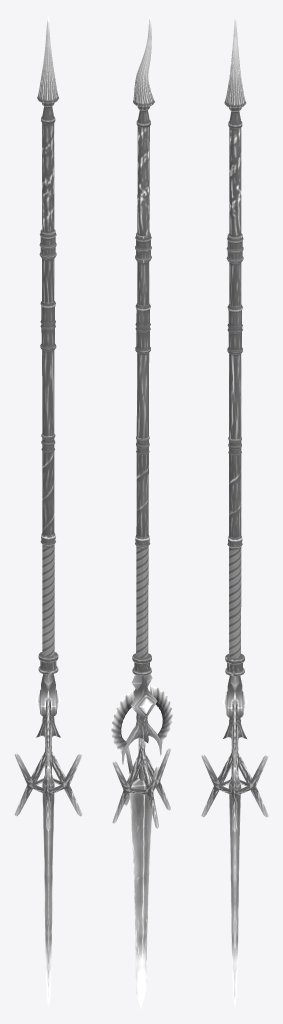
Rendered from le_pd_crystalspear.glb.
3 renders of one model, left to right at view 1: azimuth 90°, elevation 25°; view 2: azimuth 210°, elevation 25°; view 3: azimuth 270°, elevation 25°, orthographic.
Parts seen in each view (by area): view 1: CrystalSpear; view 2: CrystalSpear; view 3: CrystalSpear.
Boxes of the visible parts, x1=… form: CrystalSpear: x1=14, y1=15, x2=82, y2=1008; CrystalSpear: x1=111, y1=14, x2=172, y2=1009; CrystalSpear: x1=201, y1=15, x2=268, y2=1009.
Size of the model in its own units: 11.27 by 175 by 10.78.
Materials: 1 (1 with a texture image).
